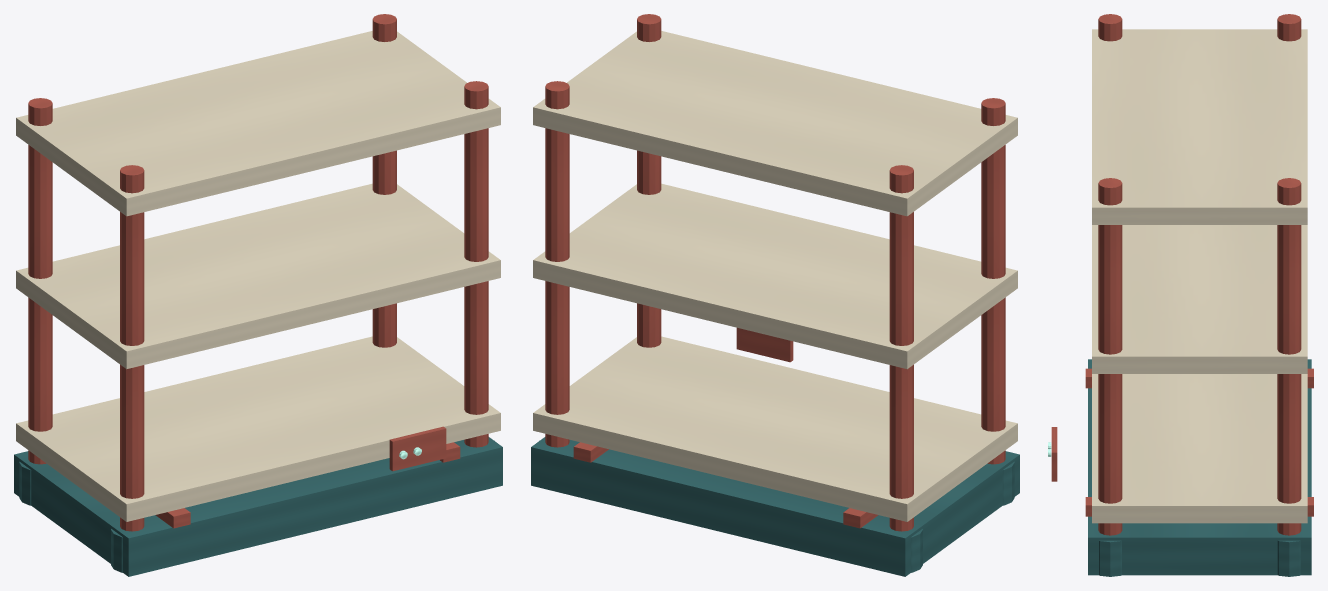
File: atlas100-s035-a06.glb
3 renders of one model, left to right at view 1: azimuth 30°, elevation 25°; view 2: azimuth 150°, elevation 25°; view 3: azimuth 270°, elevation 25°, orthographic. The views are drawn at different scales.
Visible parts, largest first — view 1: atlas100-s035-a06:part-013, atlas100-s035-a06:part-012, atlas100-s035-a06:part-011, atlas100-s035-a06:part-000, atlas100-s035-a06:part-005, atlas100-s035-a06:part-009, atlas100-s035-a06:part-003, atlas100-s035-a06:part-007, atlas100-s035-a06:part-014; view 2: atlas100-s035-a06:part-013, atlas100-s035-a06:part-012, atlas100-s035-a06:part-011, atlas100-s035-a06:part-000, atlas100-s035-a06:part-003, atlas100-s035-a06:part-007, atlas100-s035-a06:part-005, atlas100-s035-a06:part-009, atlas100-s035-a06:part-014; view 3: atlas100-s035-a06:part-013, atlas100-s035-a06:part-011, atlas100-s035-a06:part-012, atlas100-s035-a06:part-000, atlas100-s035-a06:part-007, atlas100-s035-a06:part-009, atlas100-s035-a06:part-008, atlas100-s035-a06:part-010, atlas100-s035-a06:part-003, atlas100-s035-a06:part-005, atlas100-s035-a06:part-014.
Boxes of the visible parts, left/top/right/bottom form: atlas100-s035-a06:part-013: left=16, top=31, right=500, bottom=216; atlas100-s035-a06:part-012: left=16, top=183, right=500, bottom=369; atlas100-s035-a06:part-011: left=16, top=336, right=500, bottom=521; atlas100-s035-a06:part-000: left=14, top=437, right=502, bottom=576; atlas100-s035-a06:part-005: left=120, top=165, right=144, bottom=531; atlas100-s035-a06:part-009: left=464, top=81, right=488, bottom=447; atlas100-s035-a06:part-003: left=28, top=98, right=52, bottom=464; atlas100-s035-a06:part-007: left=372, top=14, right=396, bottom=347; atlas100-s035-a06:part-014: left=389, top=426, right=446, bottom=471; atlas100-s035-a06:part-013: left=533, top=31, right=1017, bottom=216; atlas100-s035-a06:part-012: left=533, top=183, right=1017, bottom=369; atlas100-s035-a06:part-011: left=533, top=336, right=1017, bottom=521; atlas100-s035-a06:part-000: left=531, top=437, right=1019, bottom=576; atlas100-s035-a06:part-003: left=889, top=165, right=913, bottom=531; atlas100-s035-a06:part-007: left=545, top=81, right=569, bottom=447; atlas100-s035-a06:part-005: left=981, top=98, right=1005, bottom=464; atlas100-s035-a06:part-009: left=637, top=14, right=661, bottom=347; atlas100-s035-a06:part-014: left=736, top=327, right=793, bottom=362; atlas100-s035-a06:part-013: left=1092, top=29, right=1307, bottom=224; atlas100-s035-a06:part-011: left=1092, top=374, right=1307, bottom=523; atlas100-s035-a06:part-012: left=1092, top=225, right=1307, bottom=373; atlas100-s035-a06:part-000: left=1088, top=359, right=1311, bottom=575; atlas100-s035-a06:part-007: left=1277, top=178, right=1301, bottom=535; atlas100-s035-a06:part-009: left=1098, top=178, right=1122, bottom=535; atlas100-s035-a06:part-008: left=1277, top=540, right=1300, bottom=576; atlas100-s035-a06:part-010: left=1099, top=540, right=1121, bottom=576; atlas100-s035-a06:part-003: left=1277, top=14, right=1301, bottom=41; atlas100-s035-a06:part-005: left=1098, top=14, right=1122, bottom=41; atlas100-s035-a06:part-014: left=1051, top=427, right=1057, bottom=481.
Size of the model in its own units: 2.69 by 2.66 by 1.66.
4 materials, 4 textured.
